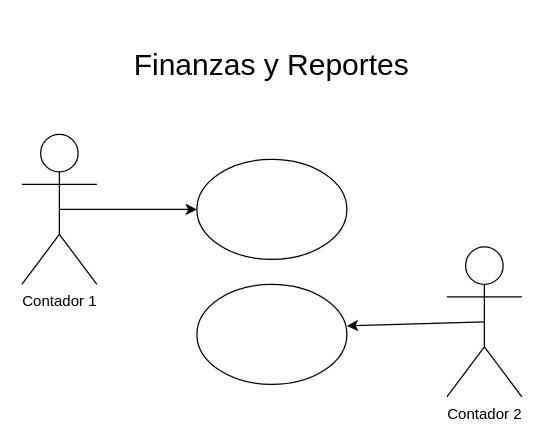
This 544x444 diagram has some shape labels left out. The shapes that lost their labels are listed below. From the top down, each one's centre as x and y in pixels, then its label:
At (x=271, y=208): "Generar reportes de ingresos diarios/ mensuales".
At (x=271, y=333): "Consultar historial de pagos".
